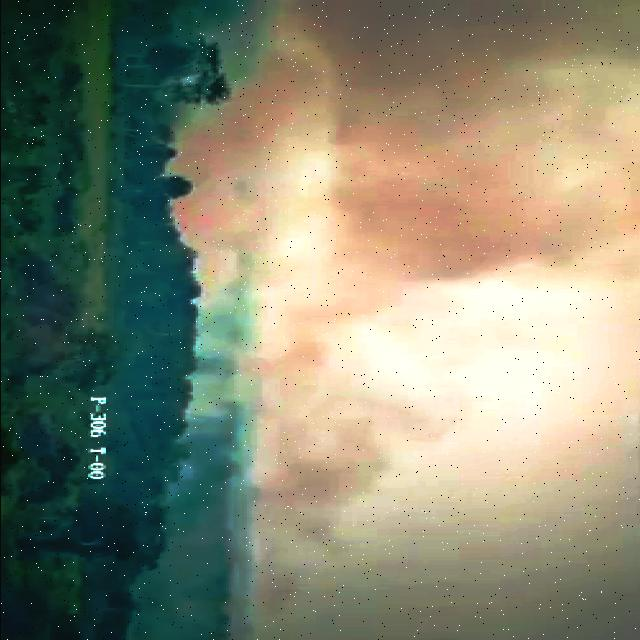asap: (149, 1, 640, 365), (160, 278, 514, 481), (101, 500, 355, 640)
